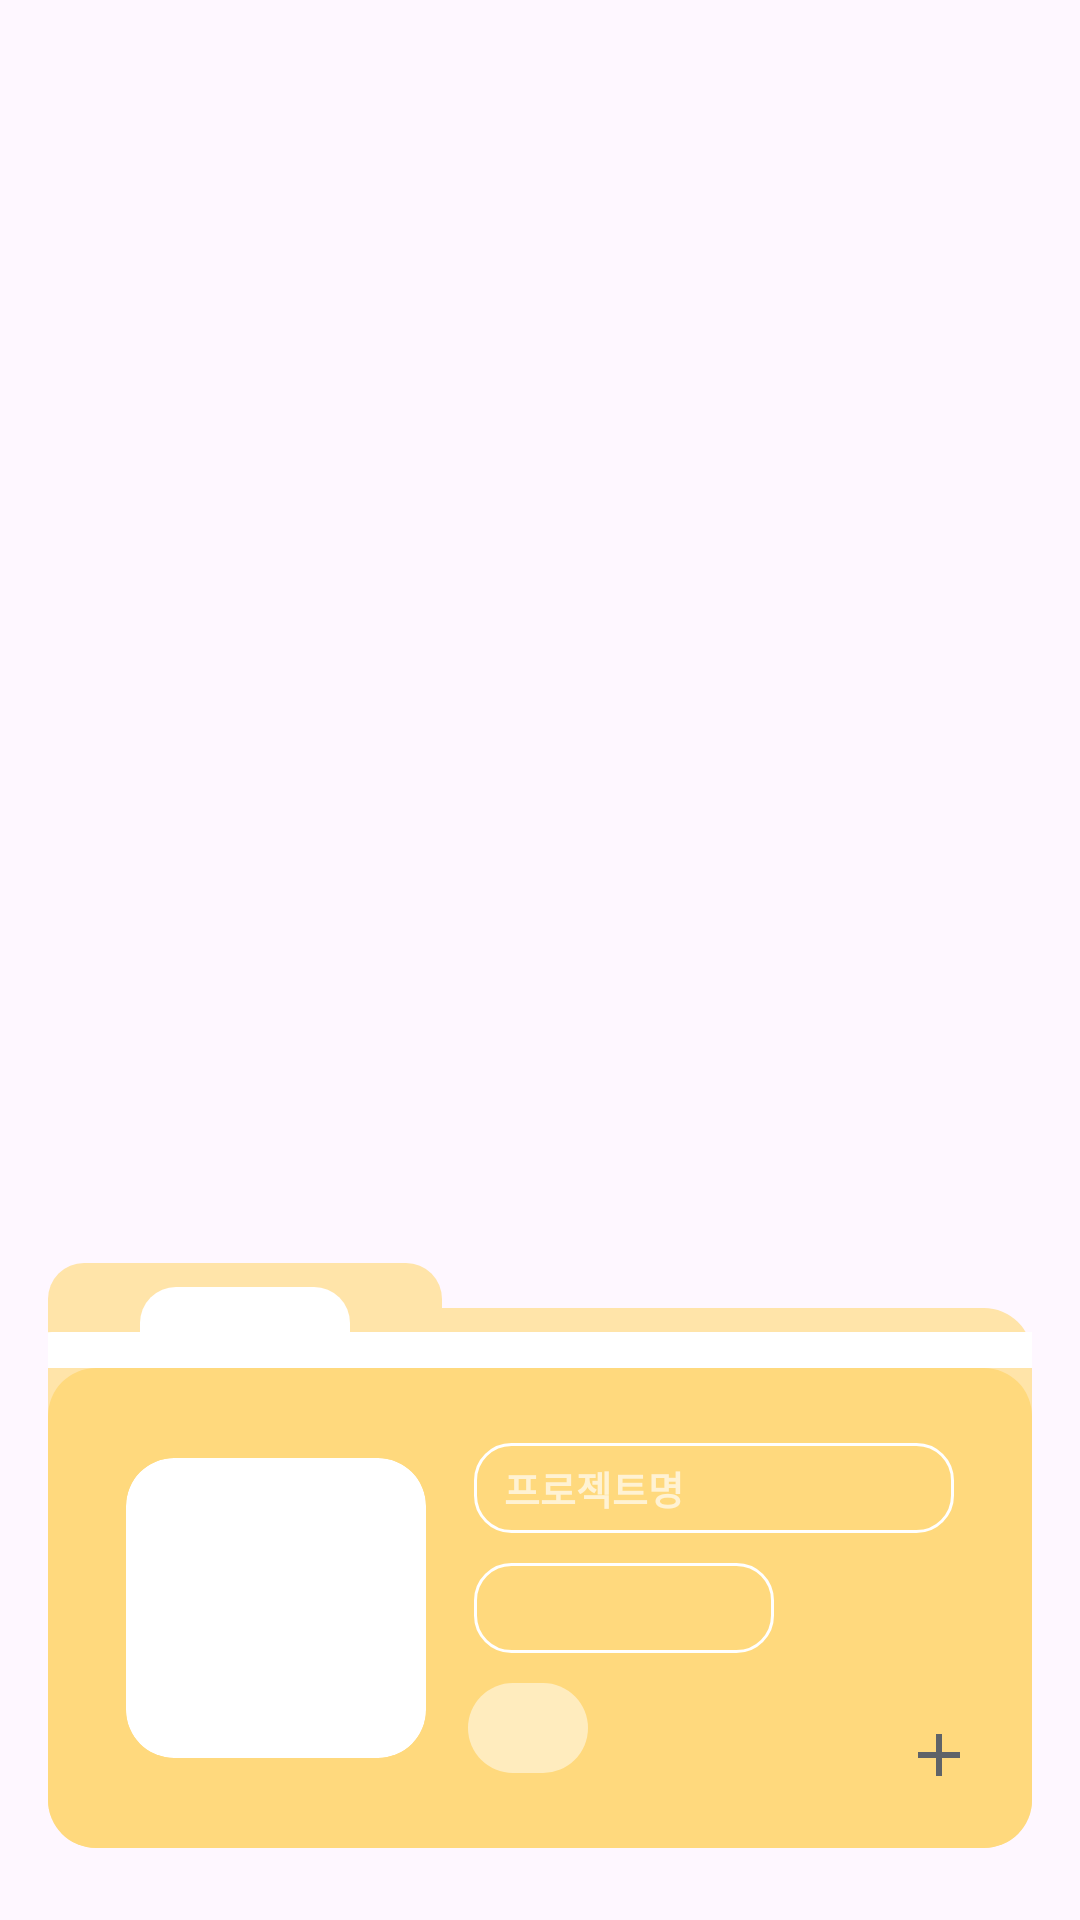

Screen size 1080px x 1920px. Icon name, then its box in pixels as bbox=(x1, y1, x2, y2):
차시 추가: bbox=(918, 1734, 960, 1776)
